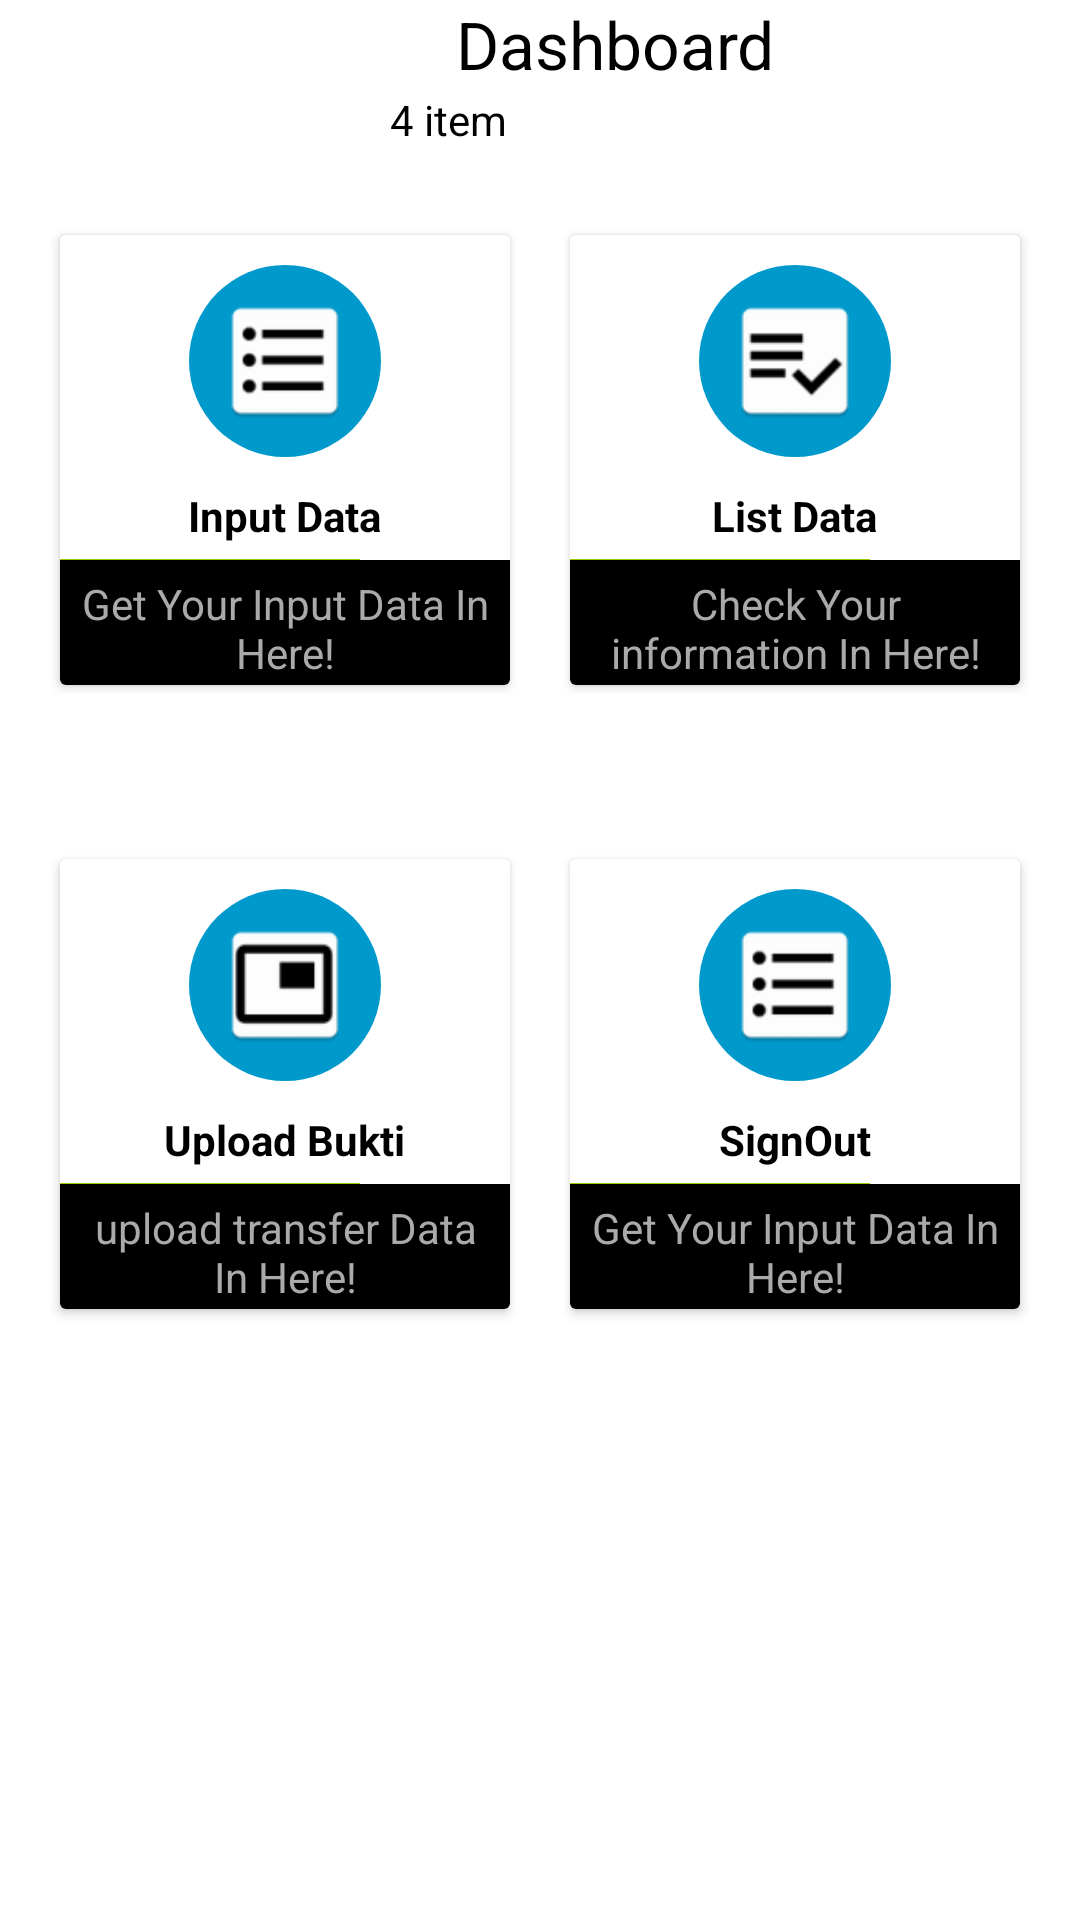

Icons on this 1080w x 1920h Android screen, each with the point to tap as point (x, y):
list: point (285, 361), point (795, 985)
